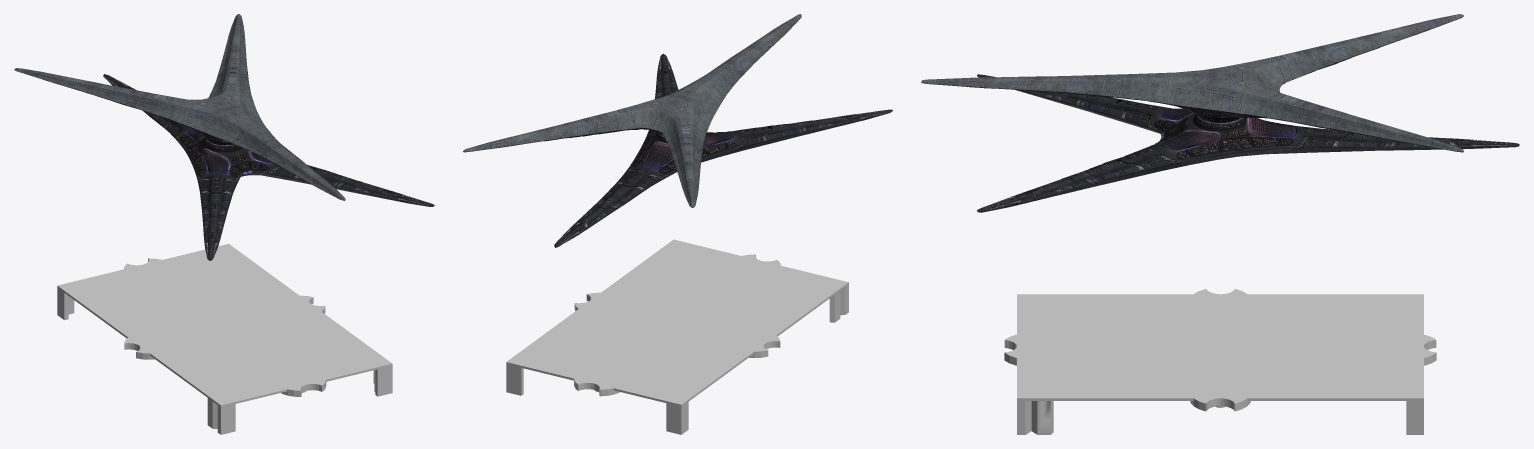
File: cy_baster-armada.obj
3 renders of one model, left to right at view 1: azimuth 30°, elevation 25°; view 2: azimuth 150°, elevation 25°; view 3: azimuth 270°, elevation 25°, orthographic. The views are drawn at different scales.
Visible parts, largest first — view 1: Base_-_Large_-_FIXED_pSphere3_0.001, BasestarHWFC; view 2: Base_-_Large_-_FIXED_pSphere3_0.001, BasestarHWFC; view 3: Base_-_Large_-_FIXED_pSphere3_0.001, BasestarHWFC.
Part boxes in pixels (x1,y1,x2,y2): Base_-_Large_-_FIXED_pSphere3_0.001: (57,243,392,434); BasestarHWFC: (14,14,434,260); Base_-_Large_-_FIXED_pSphere3_0.001: (506,239,848,434); BasestarHWFC: (463,14,892,247); Base_-_Large_-_FIXED_pSphere3_0.001: (1004,289,1436,434); BasestarHWFC: (921,14,1519,212).
Bounding box in the file's own units: 4.09 × 4.29 × 7.56.
Materials: 2 (1 with a texture image).
